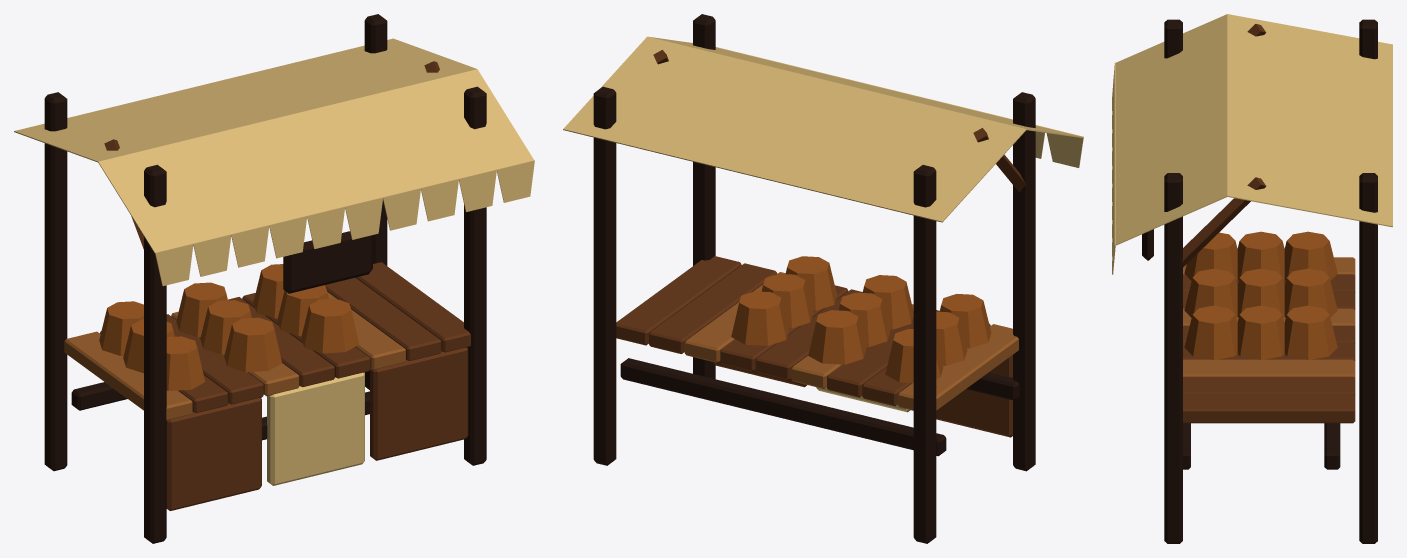
Rendered from Banca_do_padeiro_LOD0.fbx.
3 renders of one model, left to right at view 1: azimuth 30°, elevation 25°; view 2: azimuth 150°, elevation 25°; view 3: azimuth 270°, elevation 25°, orthographic.
Visible parts, largest first — view 1: Banca_do_padeiro_LOD0; view 2: Banca_do_padeiro_LOD0; view 3: Banca_do_padeiro_LOD0.
Part boxes in pixels (box(x1,y1,x2,y2)): Banca_do_padeiro_LOD0: box(14, 14, 534, 543); Banca_do_padeiro_LOD0: box(563, 14, 1083, 543); Banca_do_padeiro_LOD0: box(1112, 14, 1392, 543).
Bounding box in the file's own units: 320 × 300 × 209.
1 material, 1 textured.
